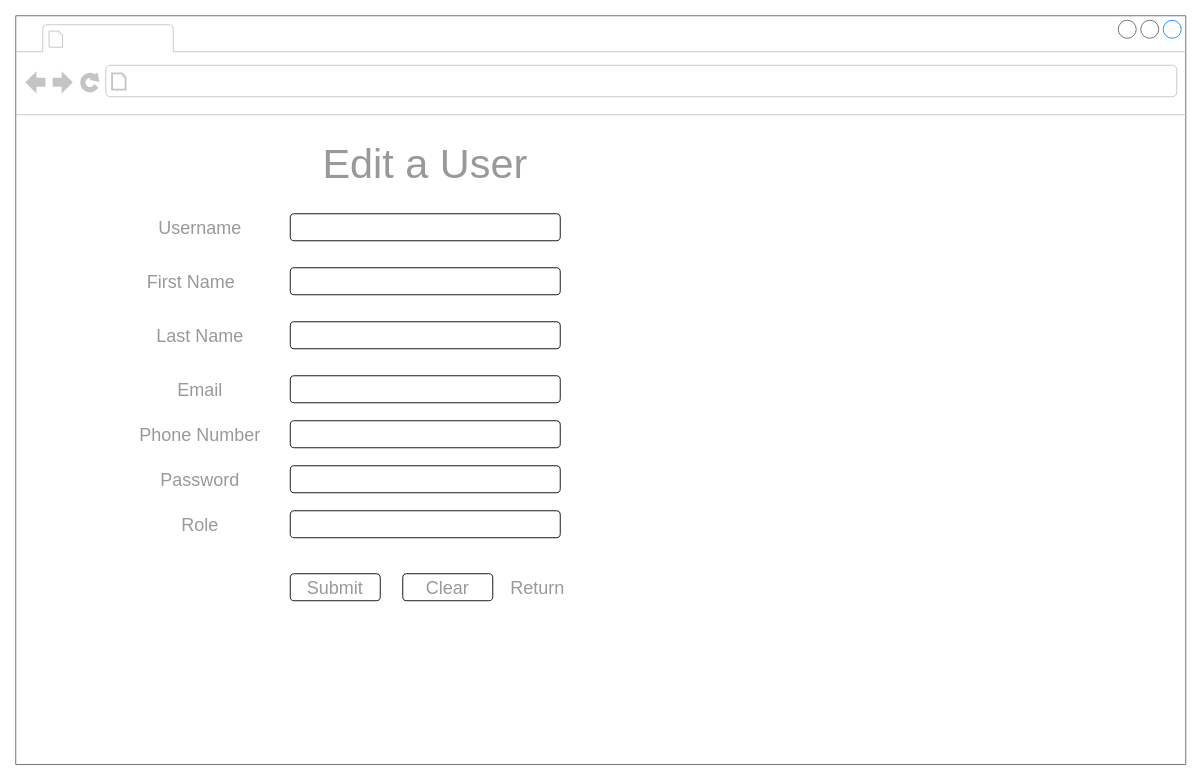
This 1202x780 diagram has some shape labels left out. The centre of each missing label's shape, as x and y in pixels:
"https://www.default.com" goes at point 245,81.
"Page 1" goes at point 119,38.
